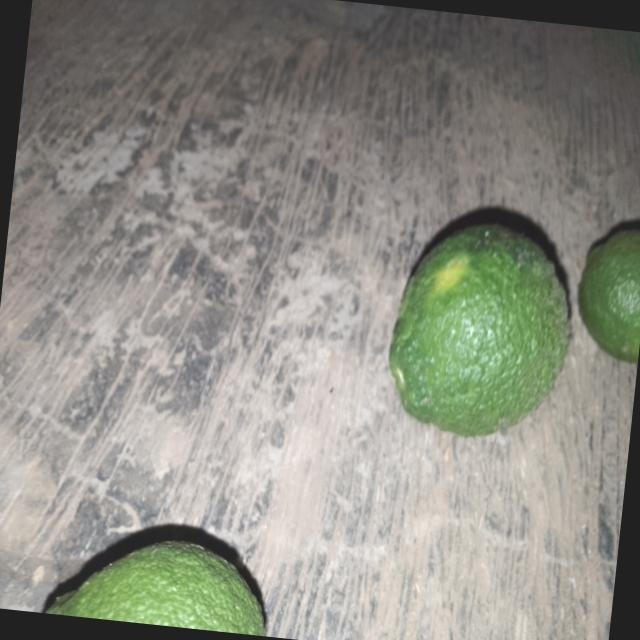agrume: (372, 182, 598, 462), (30, 505, 289, 637)
